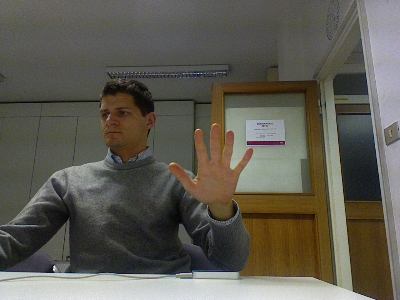布: (166, 120, 253, 205)
